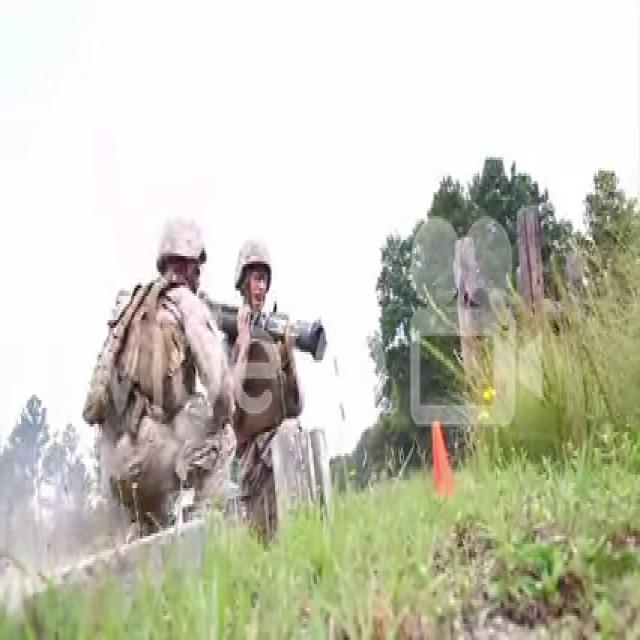bazooka: (205, 289, 332, 373)
